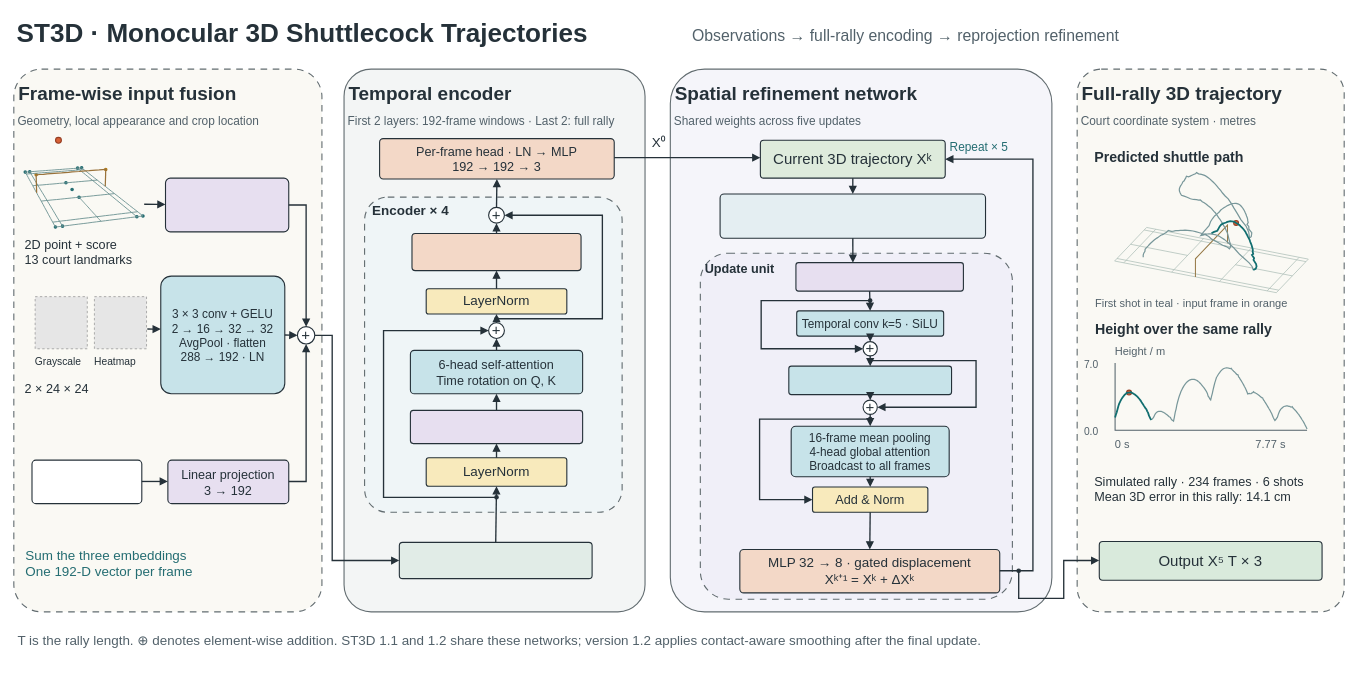
The diagram is 1359 pixels wide and 675 high, and some of its shapes have lost their labels. Grey dashed boxes stand in for pictures. Here are the shapes that lost their labels. From the top down, the centre of each, then its label:
(227,204): Shuttle / court embeddings 96 + 96 → 192
(852,215): Reproject and compare with detections Ray, velocity, confidence and time
(496,251): Feed-forward · GELU 192 → 768 → 192
(879,276): Linear 31 → 32
(870,380): Dilated conv k=3, d=4 · SiLU
(496,426): Q, K, V projections
(86,481): Centre & scale (u, v, s)
(495,560): Frame tokens T × 192
